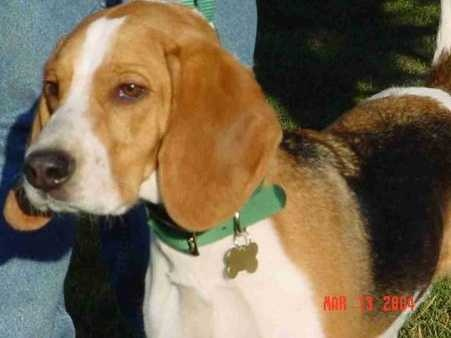Dog: (3, 0, 450, 337)
